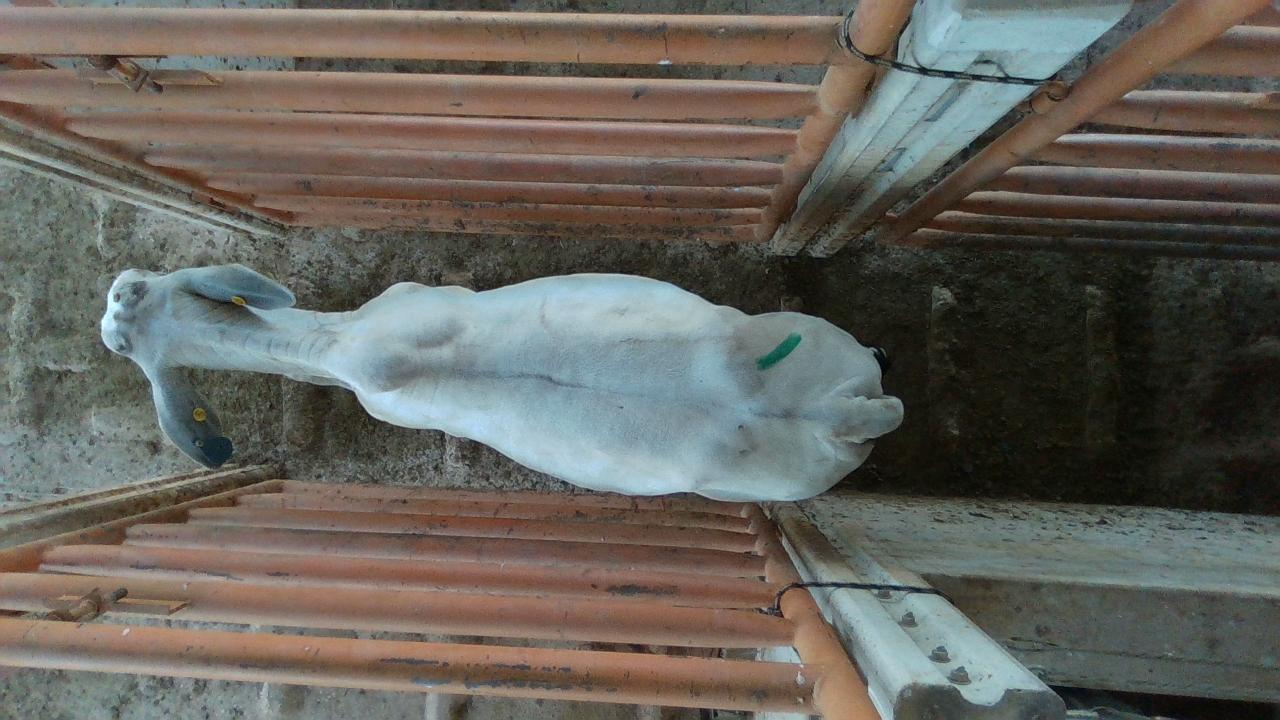cattle: (98, 260, 905, 504)
